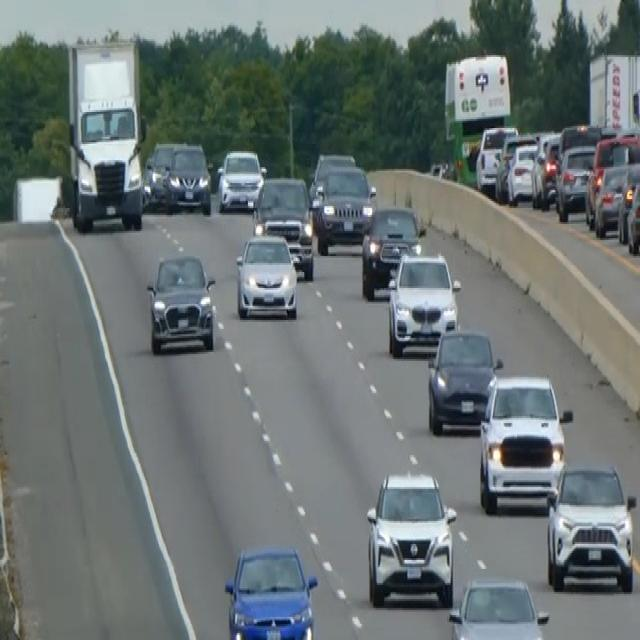car: (477, 372, 571, 514), (365, 468, 457, 608), (545, 460, 636, 594), (223, 542, 318, 638), (426, 324, 502, 434), (386, 249, 461, 357), (145, 250, 216, 354), (251, 174, 314, 279), (447, 574, 549, 638), (360, 202, 423, 300), (234, 229, 298, 320), (312, 162, 376, 252), (584, 132, 639, 230), (554, 140, 596, 220), (165, 140, 211, 213), (216, 146, 265, 212), (474, 122, 517, 194), (593, 160, 630, 236), (146, 138, 183, 204), (309, 149, 355, 201), (530, 133, 560, 208), (505, 138, 539, 204), (616, 160, 639, 245), (626, 174, 639, 256)
lorry: (65, 35, 146, 233)
